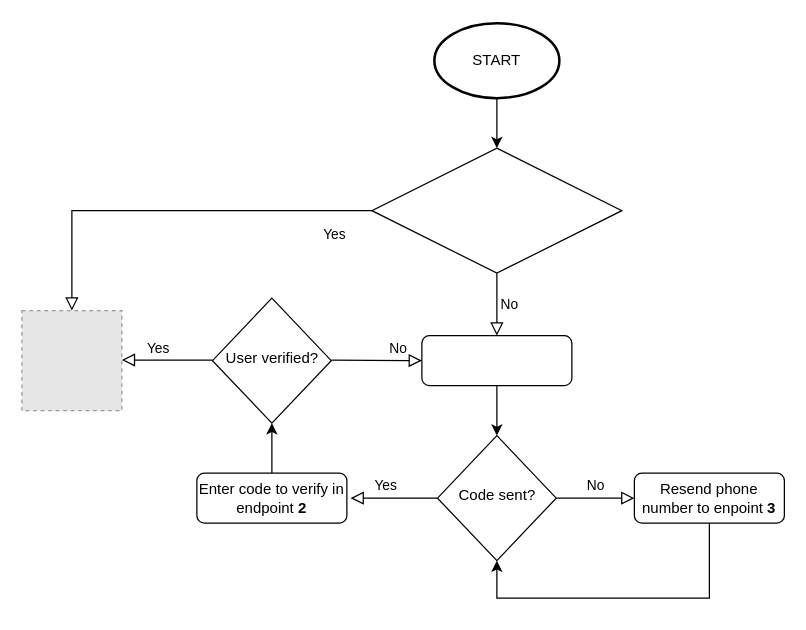
This 806x630 diagram has some shape labels left out. Grey dashed boxes stand in for pictures. Each missing label, with the box of its shape:
Send email, phone number to endpoint 1: (421, 334, 572, 386)
User is verified in the platform: (371, 147, 622, 273)
